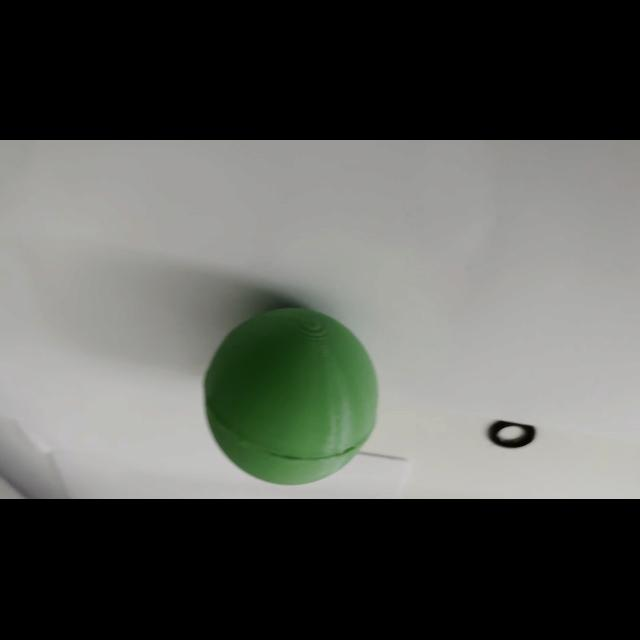objects: (198, 301, 384, 487)
